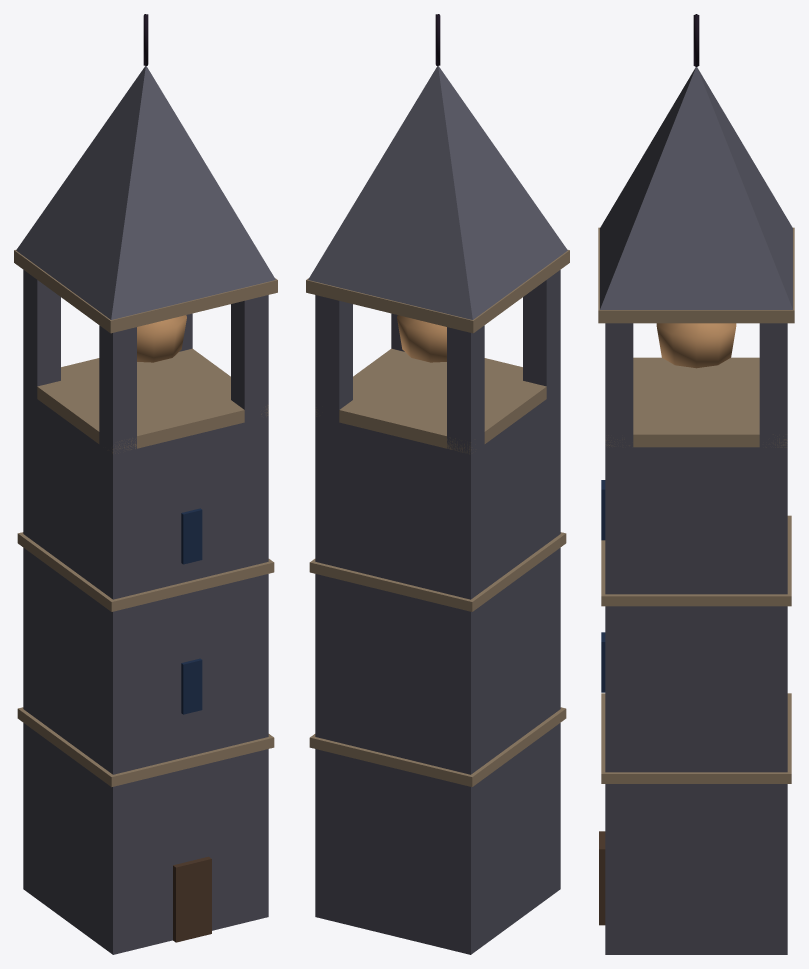
The model's file is bell_tower.glb.
The picture shows the model from 3 angles, left to right: view 1: azimuth 30°, elevation 25°; view 2: azimuth 150°, elevation 25°; view 3: azimuth 270°, elevation 25°; orthographic projection.
Visible parts, largest first — view 1: bell_tower; view 2: bell_tower; view 3: bell_tower.
Part boxes in pixels (left/top/right/bottom): bell_tower: left=14, top=14, right=277, bottom=954; bell_tower: left=306, top=14, right=569, bottom=954; bell_tower: left=598, top=14, right=794, bottom=954.
Bounding box in the file's own units: 1.4 × 7.1 × 1.4.
